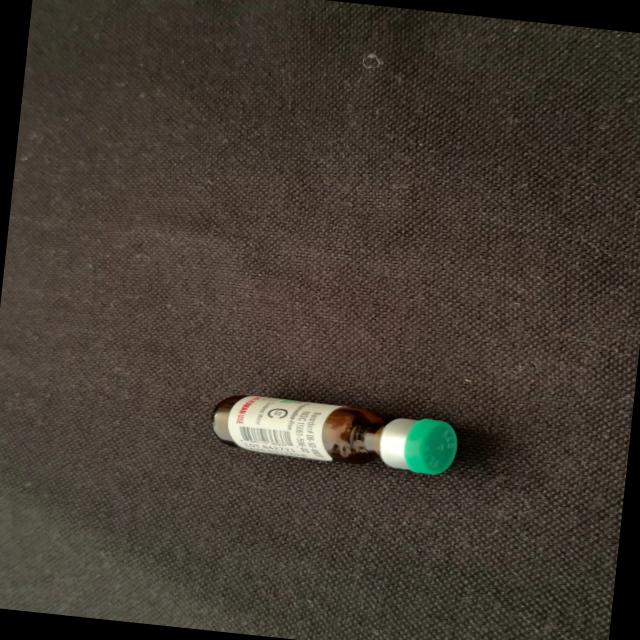midazolm: (212, 390, 457, 475)
